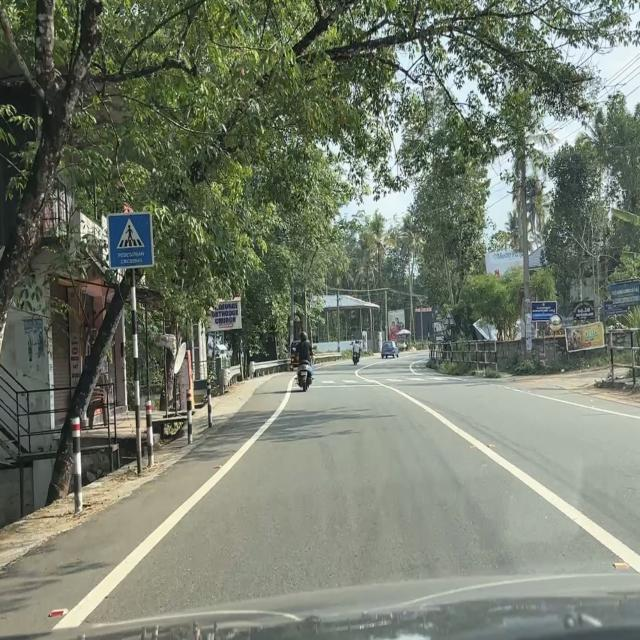PEDESTRIAN_CROSSING: (106, 210, 154, 270)
